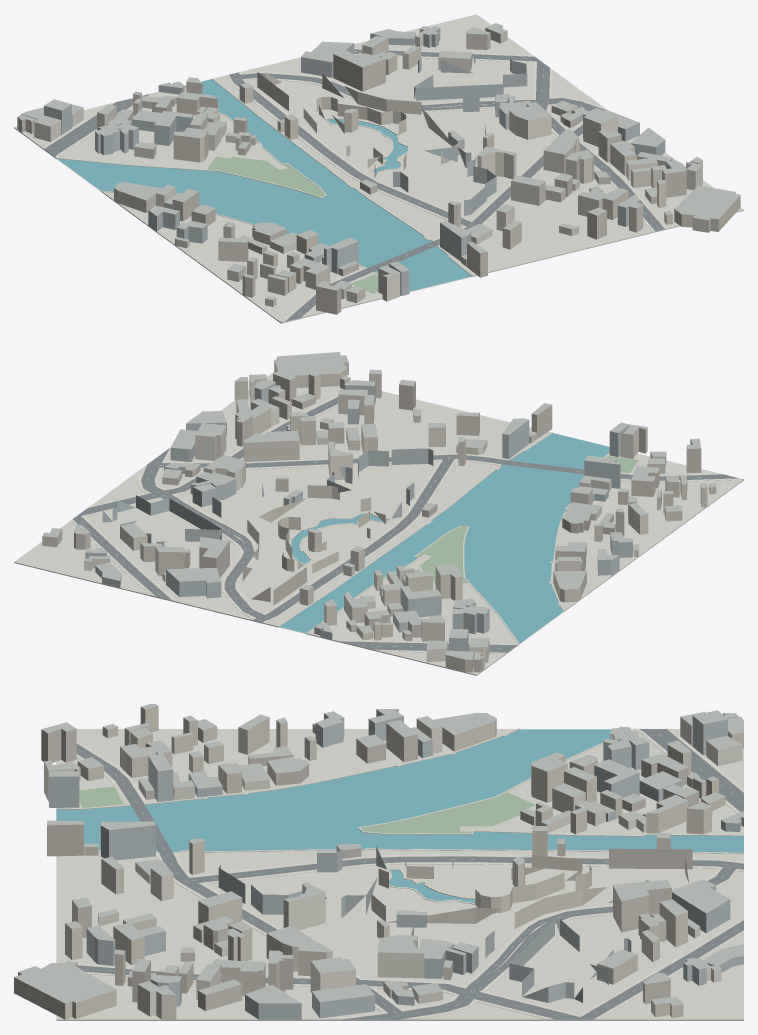
3 views of the same model, one above another, from view 1: azimuth 30°, elevation 25°; view 2: azimuth 150°, elevation 25°; view 3: azimuth 270°, elevation 25° (orthographic). The views are drawn at different scales.
Visible parts, largest first — view 1: city; view 2: city; view 3: city.
Part boxes in pixels (x1,y1,x2,y2): city: (14, 14, 743, 323); city: (14, 352, 743, 675); city: (14, 704, 743, 1020).
Bounding box in the file's own units: 500 × 26 × 531.
